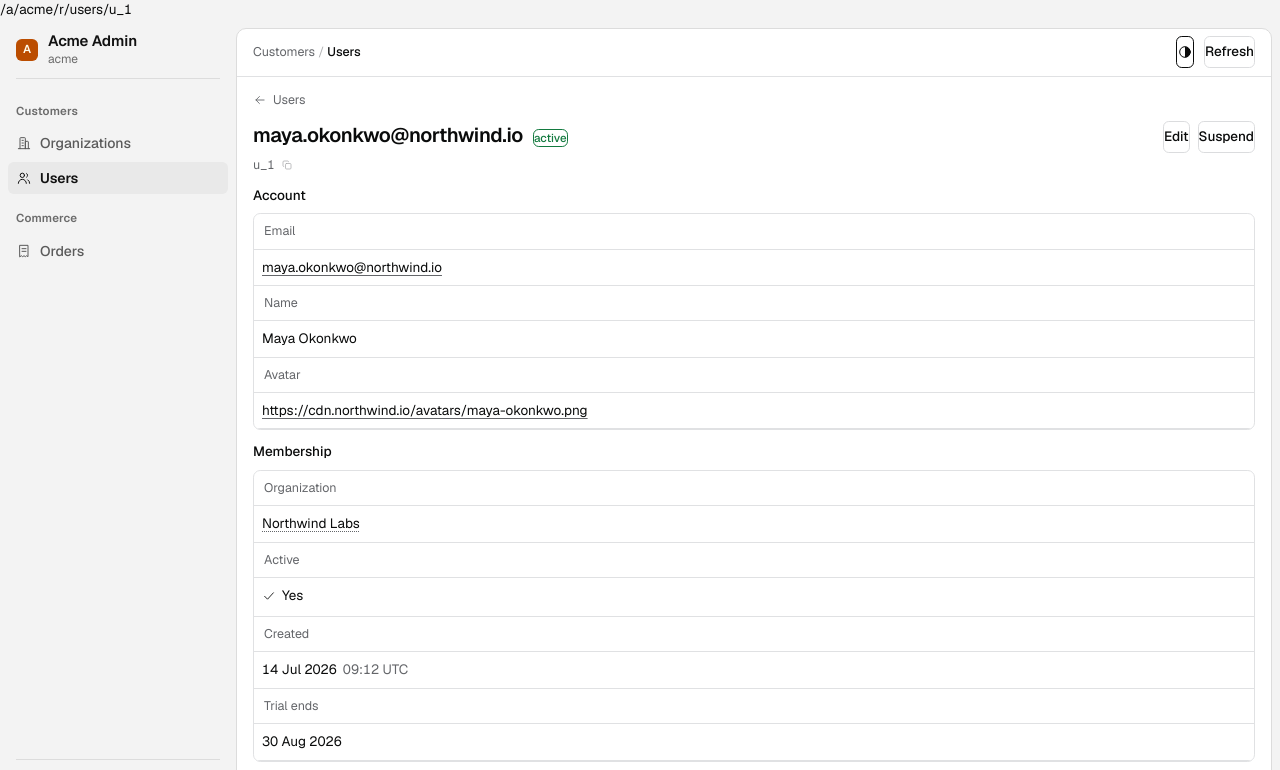
Test: the record page › actions › goes on saying it is done when the success left nothing to do to the record
The width and height of the screenshot is (1280, 770).
Check: the heading "maya.okonkwo@northwind.io" is shown, box [253,121,523,150]
Click the button "Suspend": (1226, 137) [1198,121,1255,153]
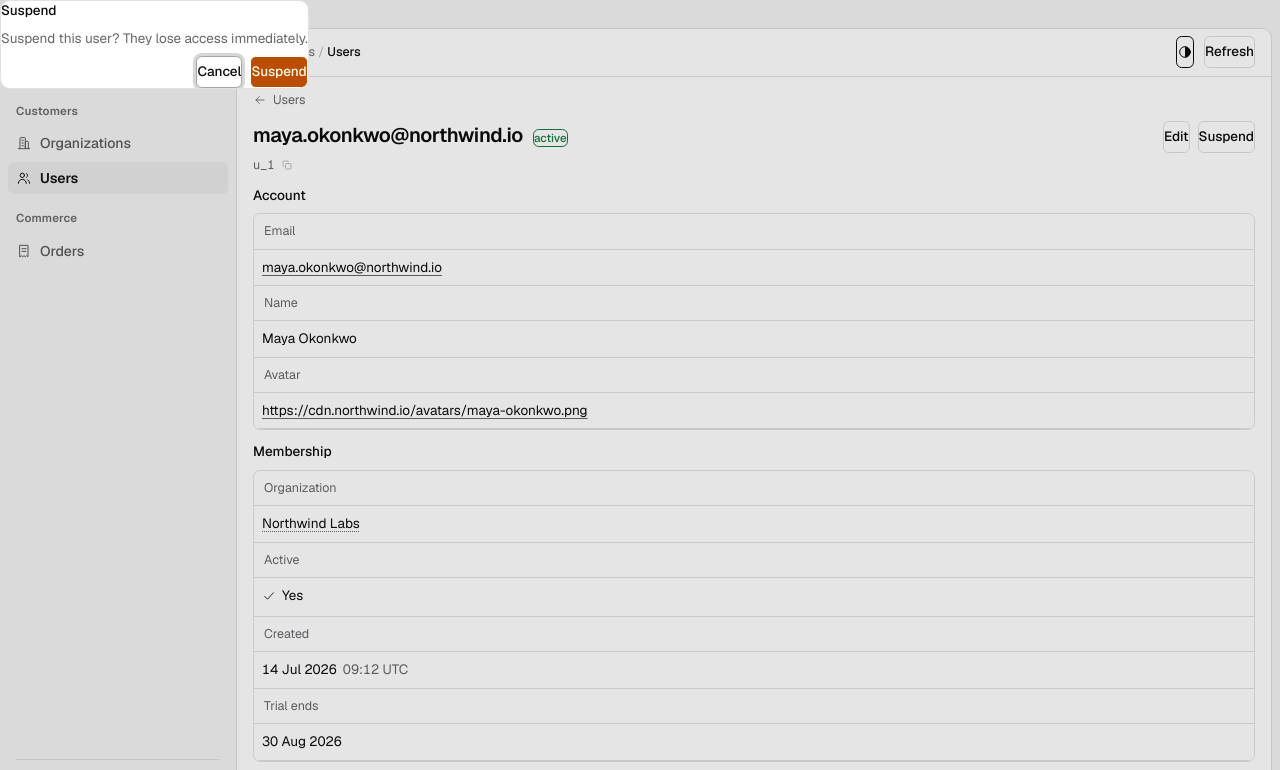
Click the button "Suspend": (279, 72) [250,56,308,88]
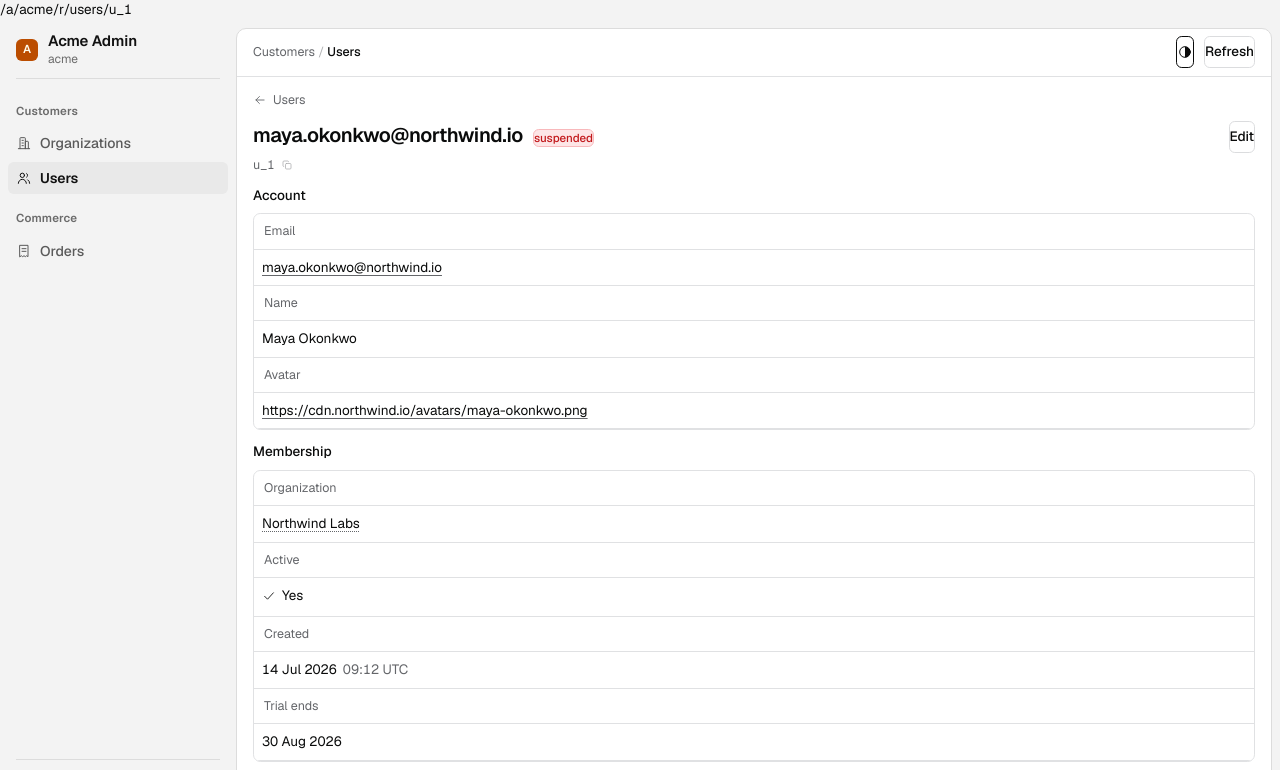
Check: the text "suspended" is shown, box [533,129,594,147]
